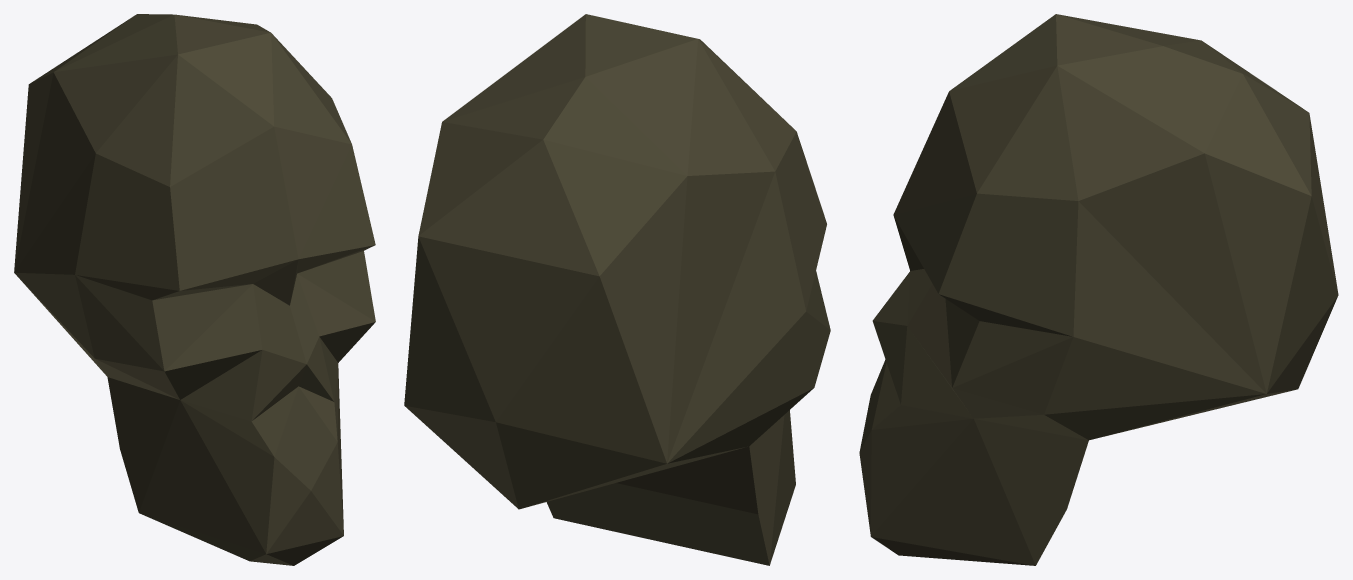
File: DT_SKELETON_V01_HEAD.OBJ
3 views of the same model, side by side, from view 1: azimuth 30°, elevation 25°; view 2: azimuth 150°, elevation 25°; view 3: azimuth 270°, elevation 25° (orthographic). The views are drawn at different scales.
Parts seen in each view (by area): view 1: DT_SKELETON_V01_HEAD; view 2: DT_SKELETON_V01_HEAD; view 3: DT_SKELETON_V01_HEAD.
Part boxes in pixels (left/top/right/bottom): DT_SKELETON_V01_HEAD: left=14, top=14, right=375, bottom=565; DT_SKELETON_V01_HEAD: left=404, top=14, right=830, bottom=565; DT_SKELETON_V01_HEAD: left=859, top=14, right=1338, bottom=565.
Bounding box in the file's own units: 0.1458 × 0.2316 × 0.1969.
